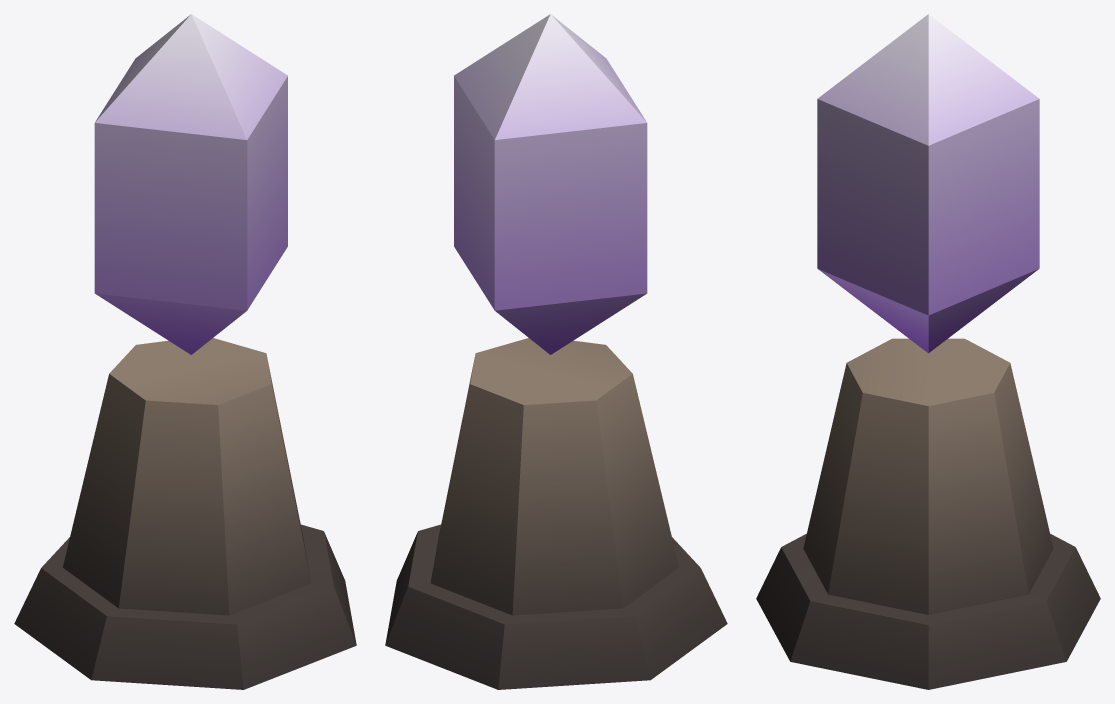
The model's file is SRTowerPiece.fbx.
3 renders of one model, left to right at view 1: azimuth 30°, elevation 25°; view 2: azimuth 150°, elevation 25°; view 3: azimuth 270°, elevation 25°, orthographic.
Visible parts, largest first — view 1: TowerPiece; view 2: TowerPiece; view 3: TowerPiece.
Boxes of the visible parts, bbox=[...] form: TowerPiece: bbox=[14, 14, 356, 689]; TowerPiece: bbox=[385, 14, 727, 689]; TowerPiece: bbox=[756, 14, 1100, 689].
Size of the model in its own units: 0.1261 by 0.249 by 0.1294.
